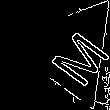M_NW: (32, 17, 104, 84)
